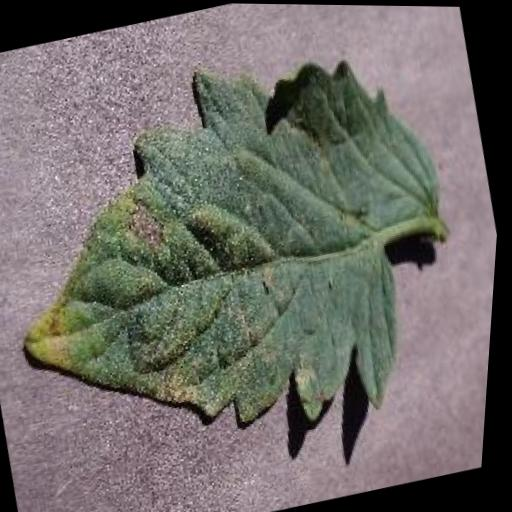Early Blight: (0, 17, 504, 485)
